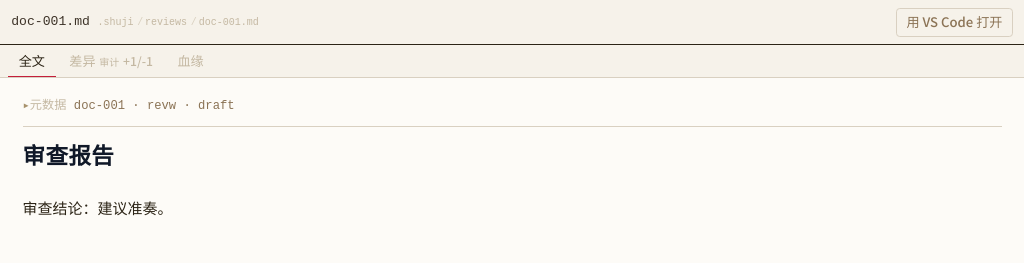
Test case: DocPreview › shows editor error below toolbar on open failure
Expected: the heading "审查报告" is shown, [22, 144, 114, 169]
Click the button "用 VS Code 打开": x=954, y=22 [896, 8, 1013, 37]
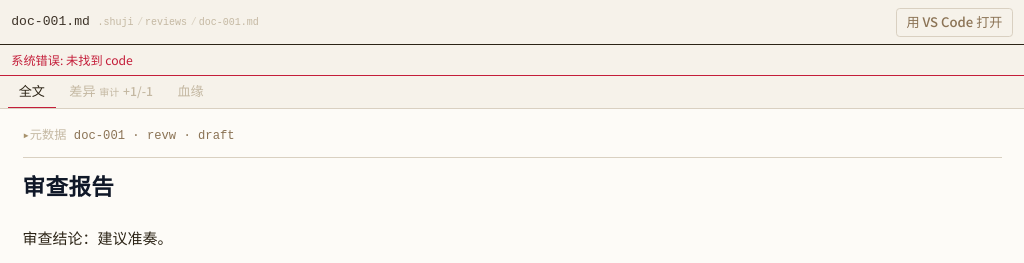
Expected: the text "系统错误: 未找到 code" is shown, [0, 45, 1023, 76]
